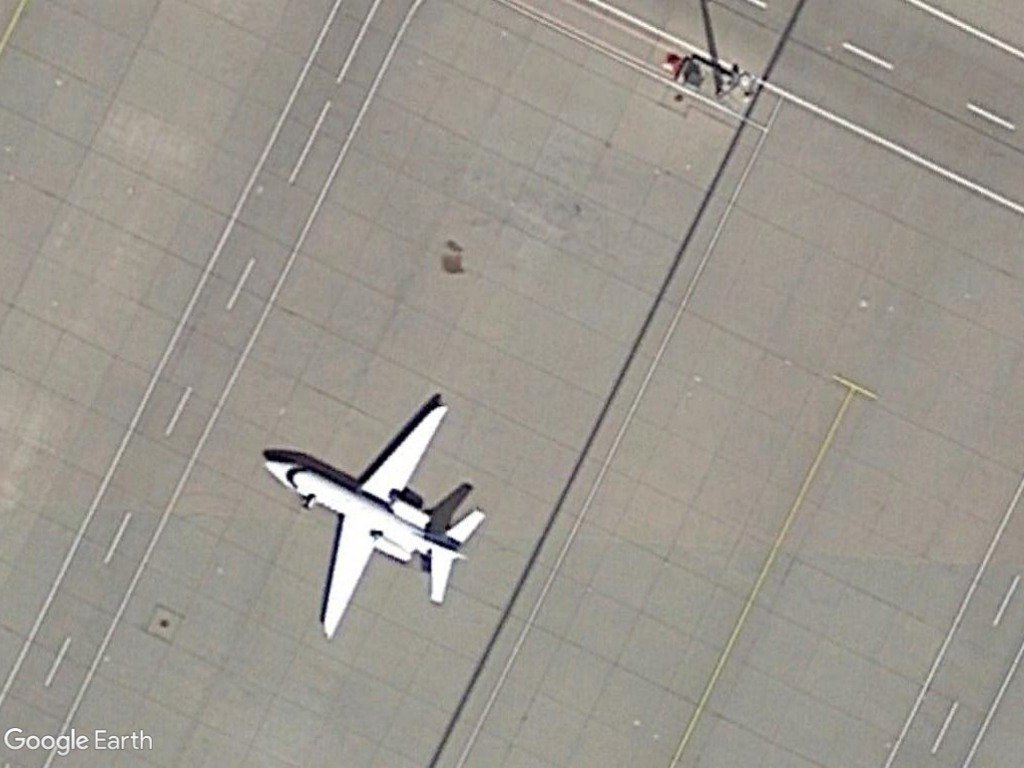chartered: (255, 398, 490, 648)
